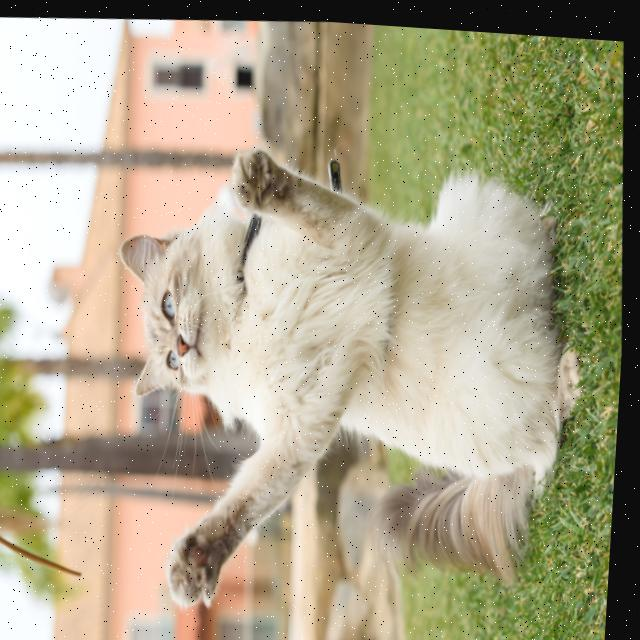Neva Masquerade: (93, 104, 614, 637)
